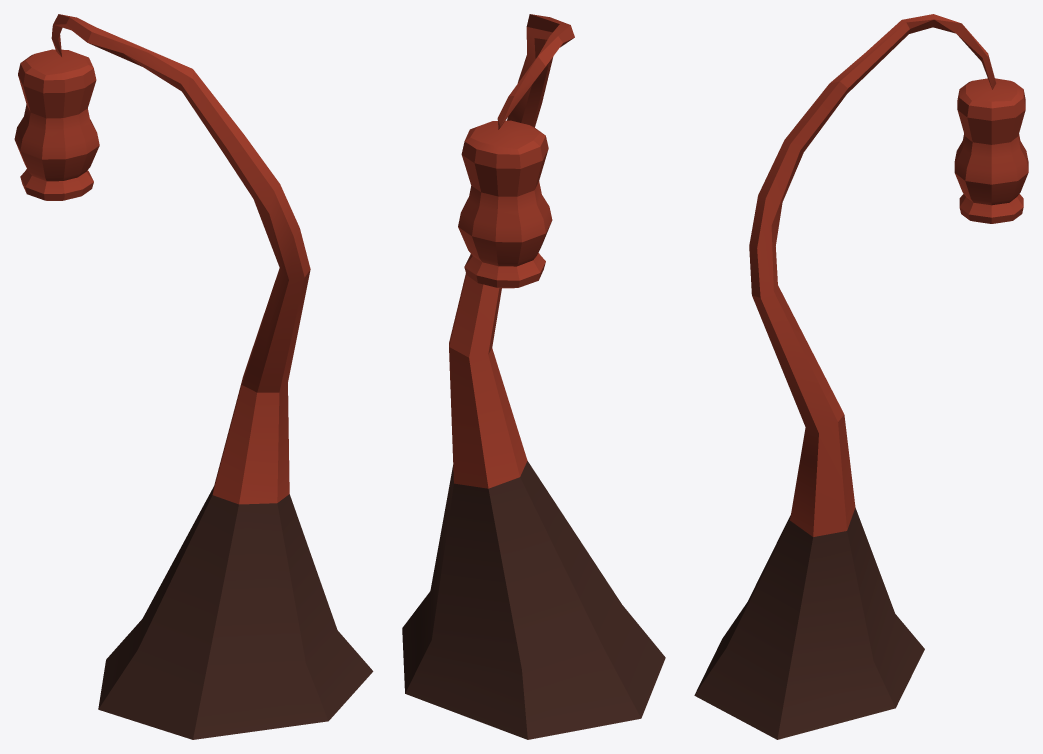
File: plant_01c.glb
3 views of the same model, side by side, from view 1: azimuth 30°, elevation 25°; view 2: azimuth 150°, elevation 25°; view 3: azimuth 270°, elevation 25° (orthographic). The views are drawn at different scales.
Parts seen in each view (by area): view 1: EA_Plant_01c; view 2: EA_Plant_01c; view 3: EA_Plant_01c.
Boxes of the visible parts, left/top/right/bottom form: EA_Plant_01c: left=14, top=14, right=373, bottom=739; EA_Plant_01c: left=402, top=14, right=665, bottom=739; EA_Plant_01c: left=694, top=14, right=1028, bottom=739.
Size of the model in its own units: 1.46 by 3.68 by 1.79.
